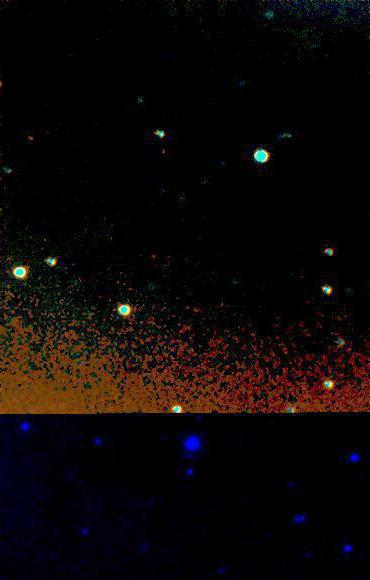star: (16, 122, 46, 152)
